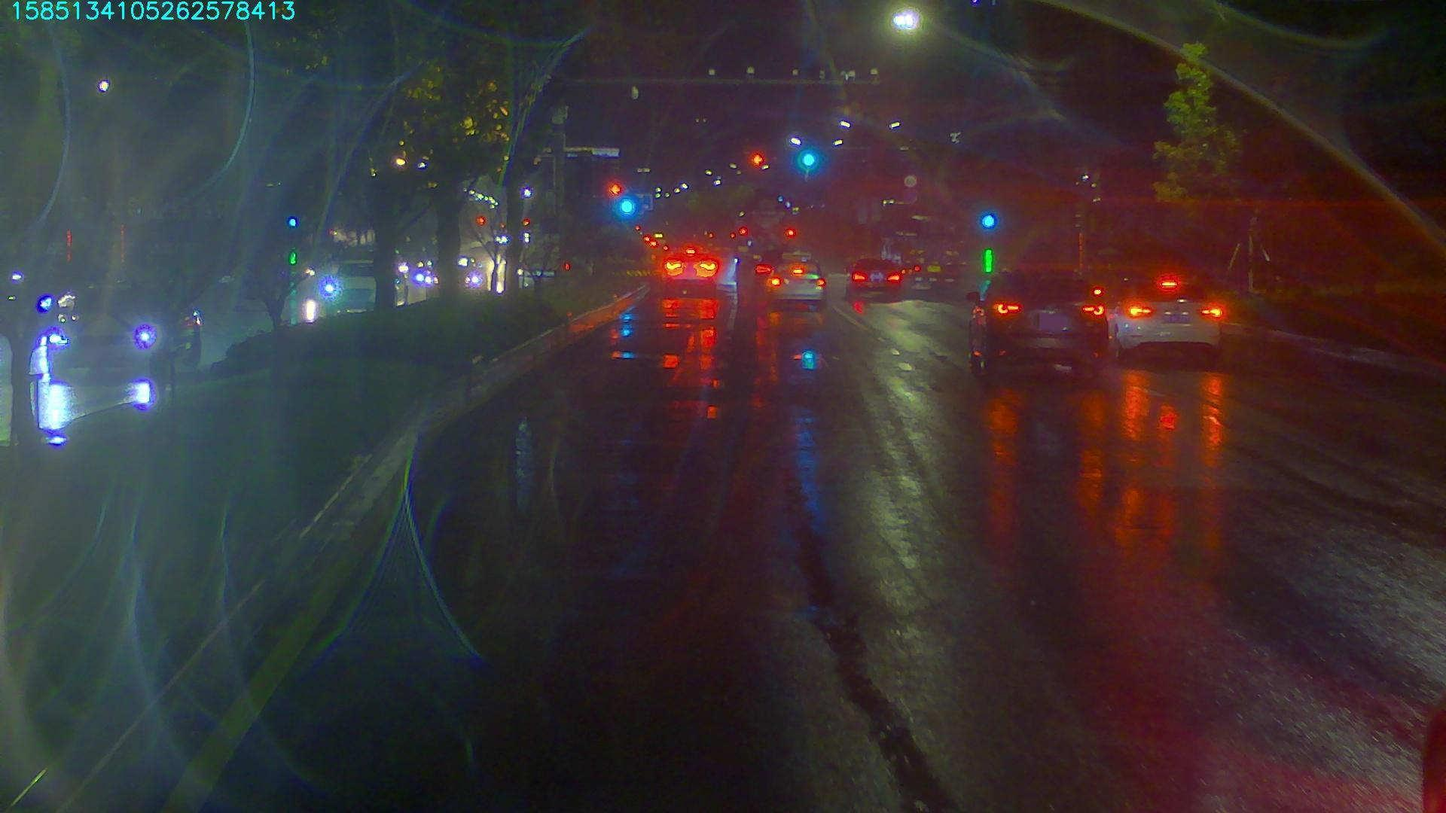green: (799, 147, 818, 175)
red: (749, 153, 764, 167)
